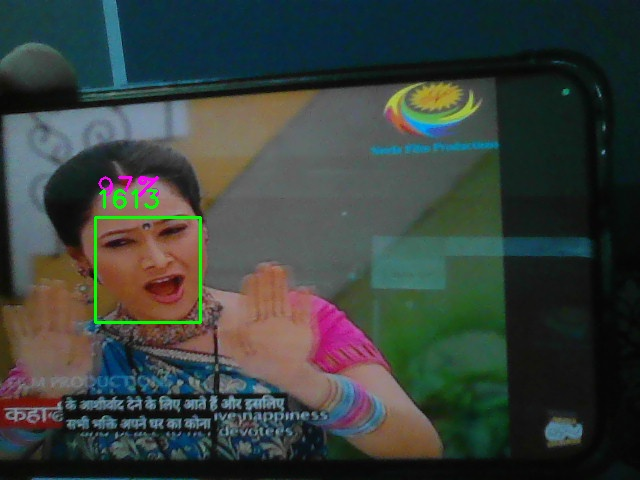fake: (95, 217, 201, 323)
